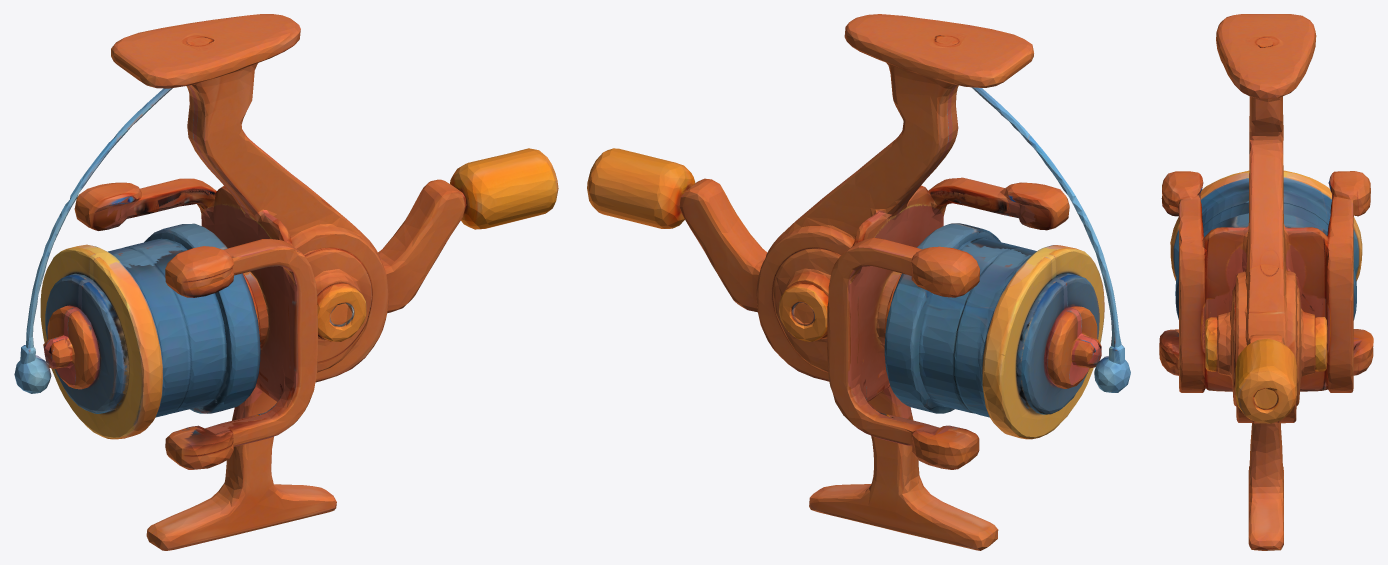
Rendered from Reel_Together_0603080600_texture.fbx.
3 renders of one model, left to right at view 1: azimuth 30°, elevation 25°; view 2: azimuth 150°, elevation 25°; view 3: azimuth 270°, elevation 25°, orthographic. The views are drawn at different scales.
Visible parts, largest first — view 1: temp; view 2: temp; view 3: temp.
Boxes of the visible parts, left/top/right/bottom form: temp: left=14, top=14, right=558, bottom=550; temp: left=587, top=14, right=1130, bottom=550; temp: left=1159, top=14, right=1373, bottom=550.
Size of the model in its own units: 200 by 179 by 76.97.
Materials: 1 (1 with a texture image).
